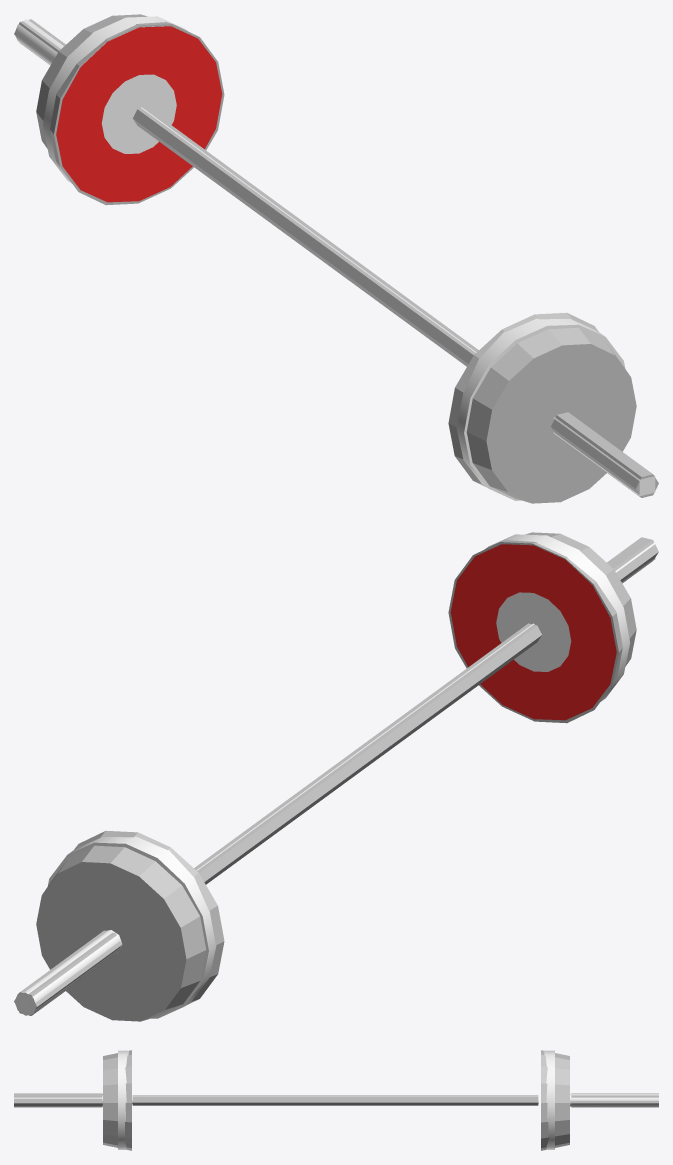
Rendered from SM_M_Government_Office_Barbell_01_ATLAS.fbx.
The picture shows the model from 3 angles, top to bottom: view 1: azimuth 30°, elevation 25°; view 2: azimuth 150°, elevation 25°; view 3: azimuth 270°, elevation 25°; orthographic projection. The views are drawn at different scales.
Parts seen in each view (by area): view 1: SM_M_Government_Office_Barbell_01_ATLAS_ConvexHulls, SM_M_Government_Office_Barbell_01_ATLAS; view 2: SM_M_Government_Office_Barbell_01_ATLAS_ConvexHulls, SM_M_Government_Office_Barbell_01_ATLAS; view 3: SM_M_Government_Office_Barbell_01_ATLAS_ConvexHulls, SM_M_Government_Office_Barbell_01_ATLAS.
Boxes of the visible parts, <box> form: SM_M_Government_Office_Barbell_01_ATLAS_ConvexHulls: <box>14,14,658,503</box>; SM_M_Government_Office_Barbell_01_ATLAS: <box>16,16,655,500</box>; SM_M_Government_Office_Barbell_01_ATLAS_ConvexHulls: <box>14,532,658,1021</box>; SM_M_Government_Office_Barbell_01_ATLAS: <box>14,534,655,1018</box>; SM_M_Government_Office_Barbell_01_ATLAS_ConvexHulls: <box>14,1050,658,1150</box>; SM_M_Government_Office_Barbell_01_ATLAS: <box>14,1050,658,1149</box>.
Size of the model in its own units: 41.64 by 263 by 41.42.
